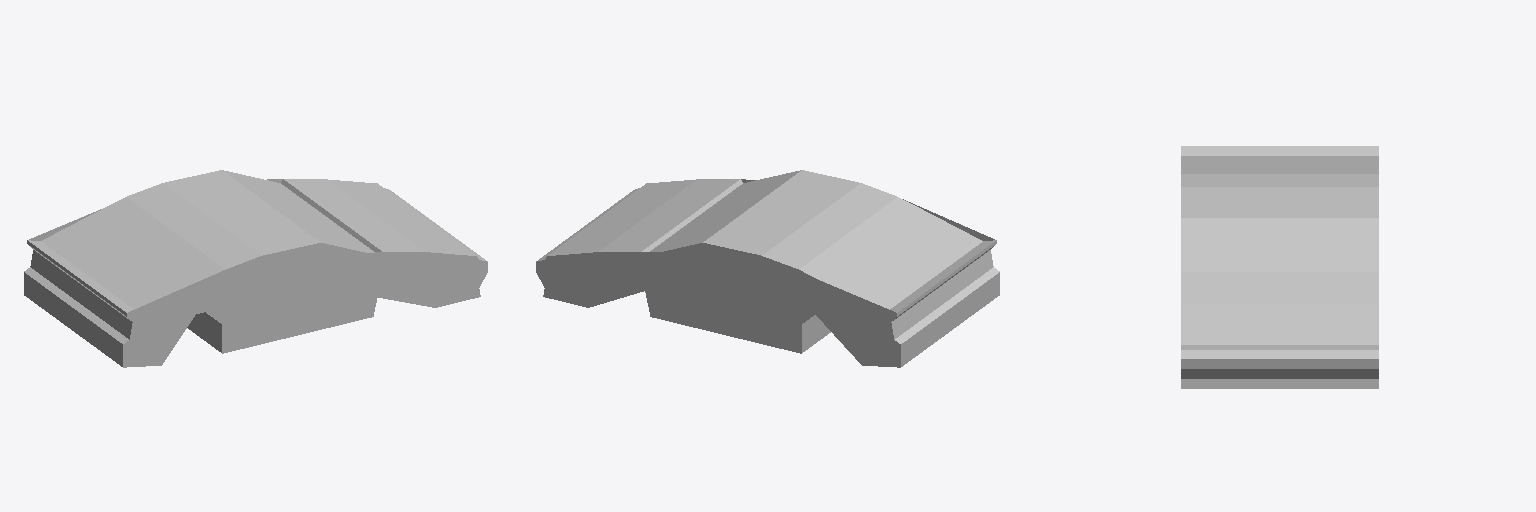
The model's file is car.obj.
The picture shows the model from 3 angles: view 1: azimuth 30°, elevation 25°; view 2: azimuth 150°, elevation 25°; view 3: azimuth 270°, elevation 25°; orthographic projection.
Visible parts, largest first — view 1: car:svgMesh1 car:polySurface1; view 2: car:svgMesh1 car:polySurface1; view 3: car:svgMesh1 car:polySurface1.
Boxes of the visible parts, box(x1,y1,x2,y2) form: car:svgMesh1 car:polySurface1: box(24, 170, 487, 367); car:svgMesh1 car:polySurface1: box(536, 170, 999, 367); car:svgMesh1 car:polySurface1: box(1181, 146, 1378, 388).
Bounding box in the file's own units: 27.74 × 6.87 × 13.08.